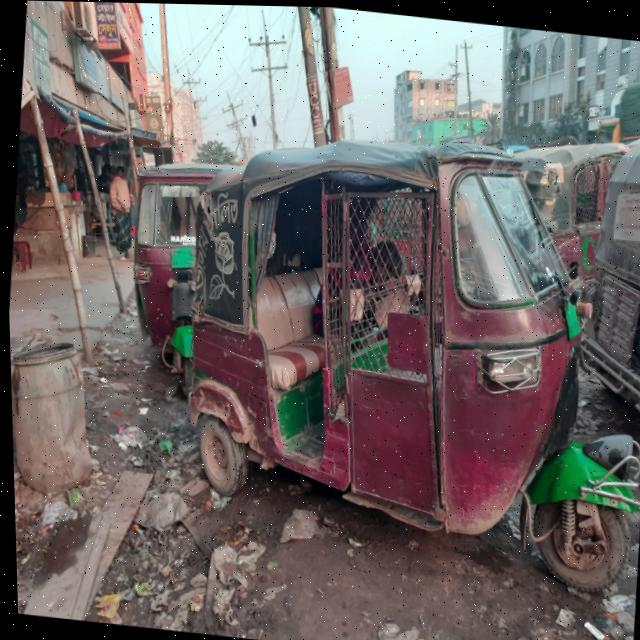cng: (161, 125, 639, 613)
